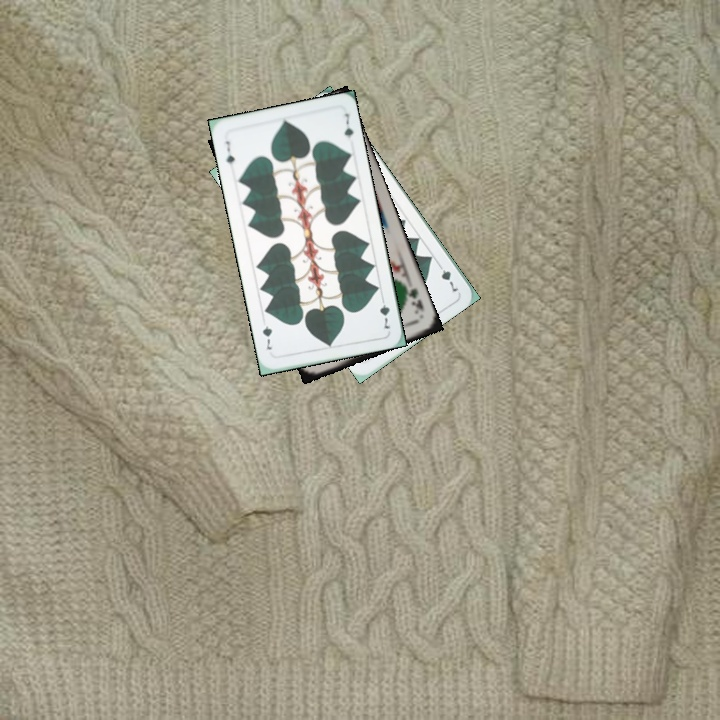G7: (433, 258, 461, 295), (376, 292, 393, 333), (221, 137, 237, 172)
GK: (401, 282, 426, 317)
